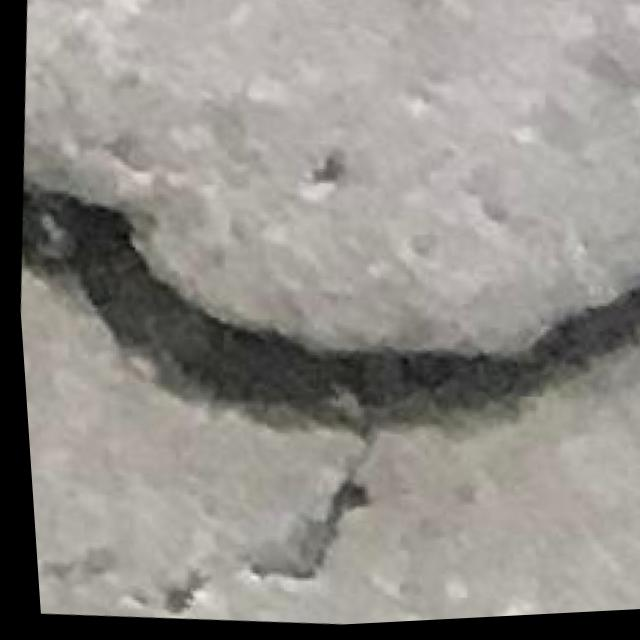Crack: (9, 141, 640, 640)
